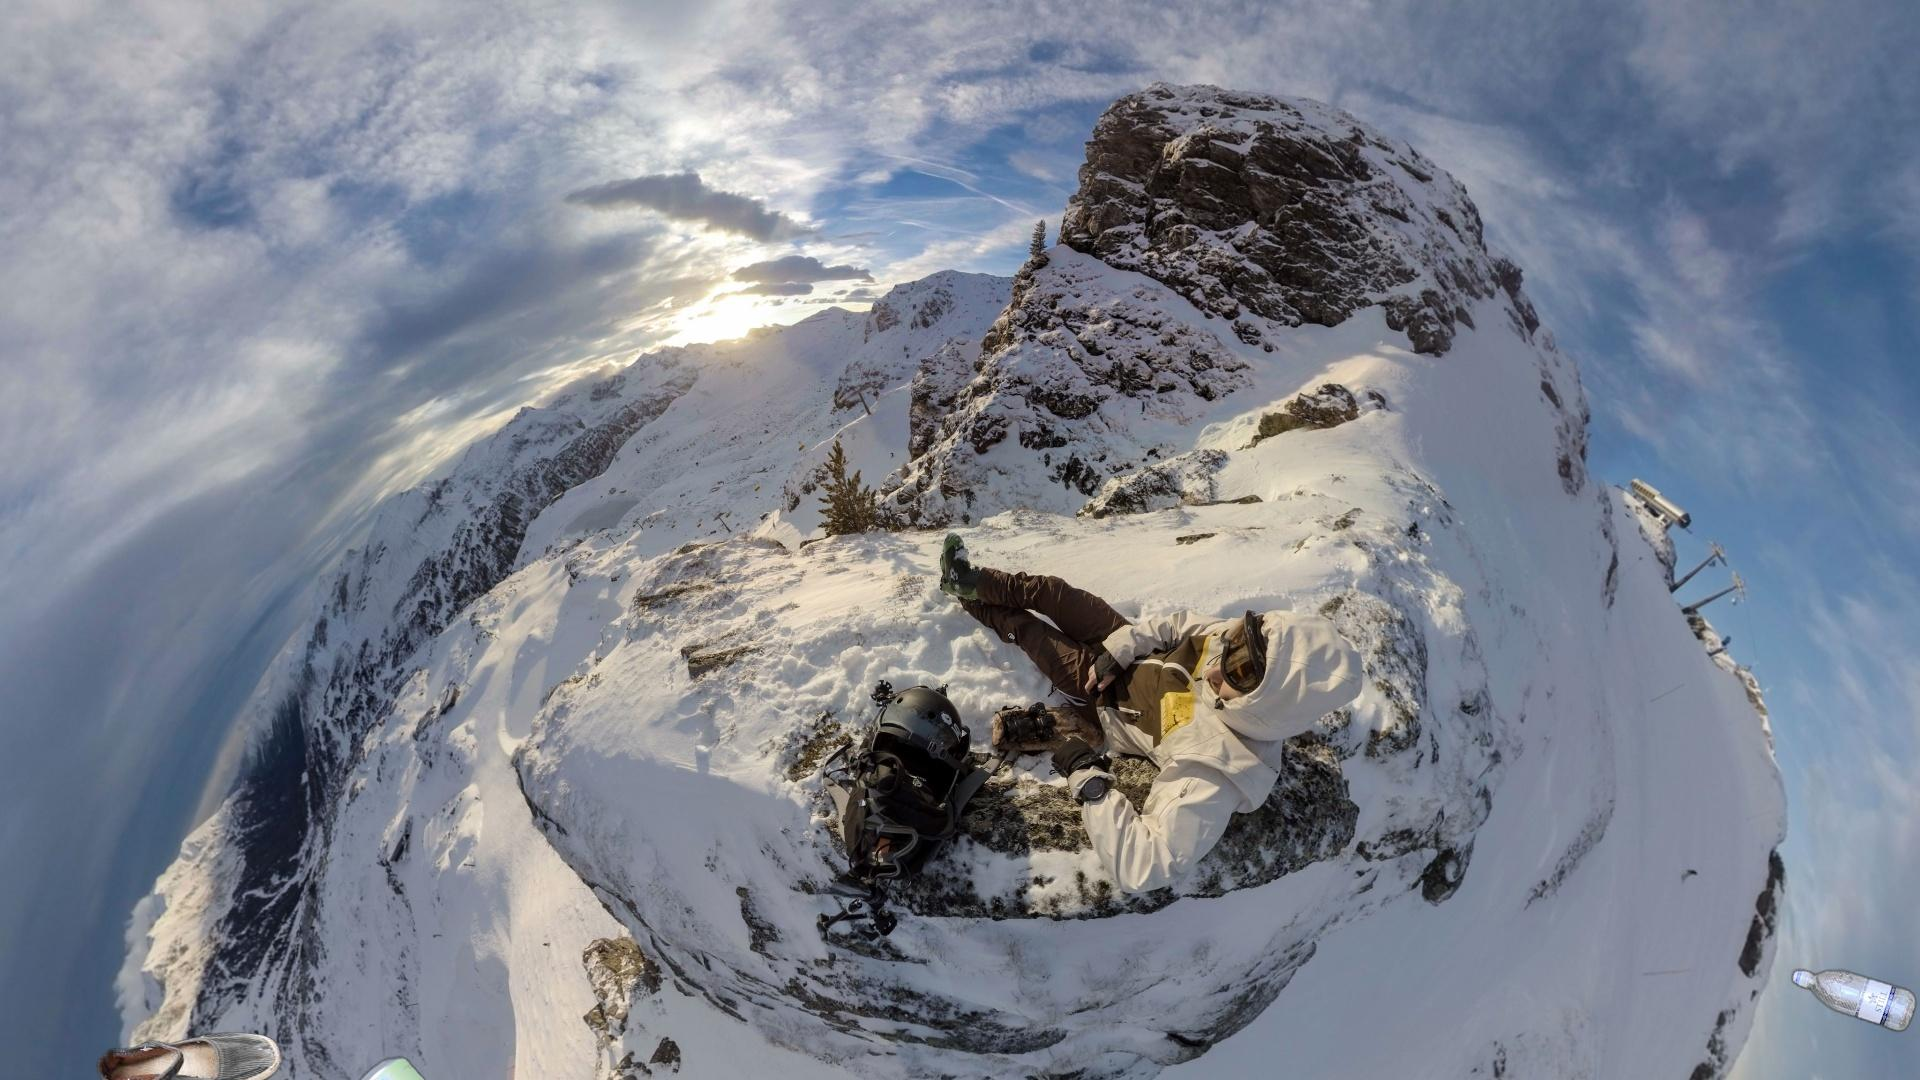metal-cans: (223, 1052, 564, 1080)
plastic-bottles: (1787, 964, 1920, 1038)
shoes: (79, 1029, 289, 1080)
